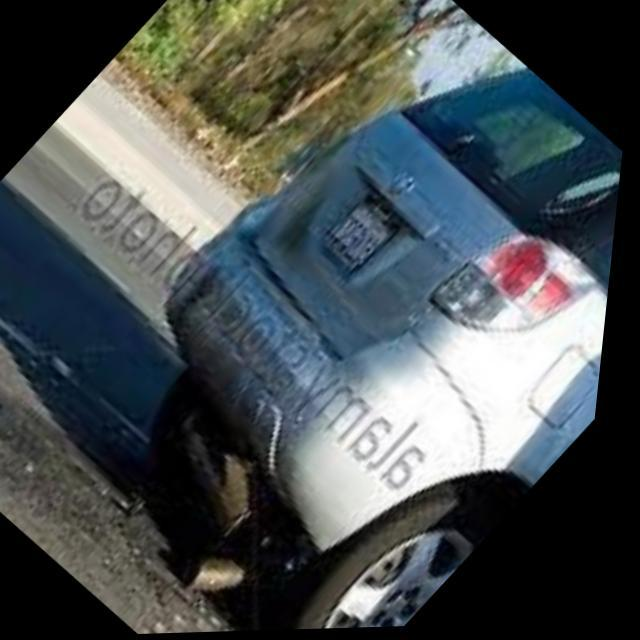crack: (179, 180, 332, 322)
